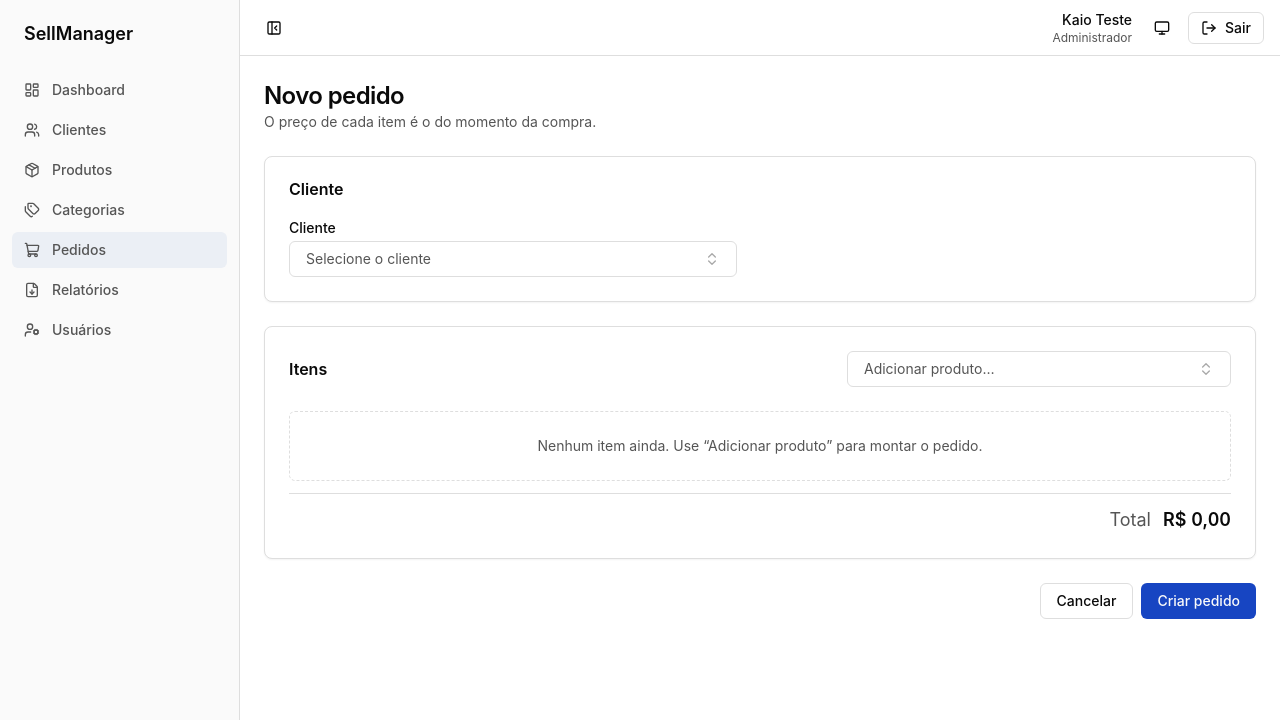
Pedidos › valida com o schema do shared: cliente e ao menos um item
Click the button "Criar pedido": (1199, 601) [1141,583,1256,619]
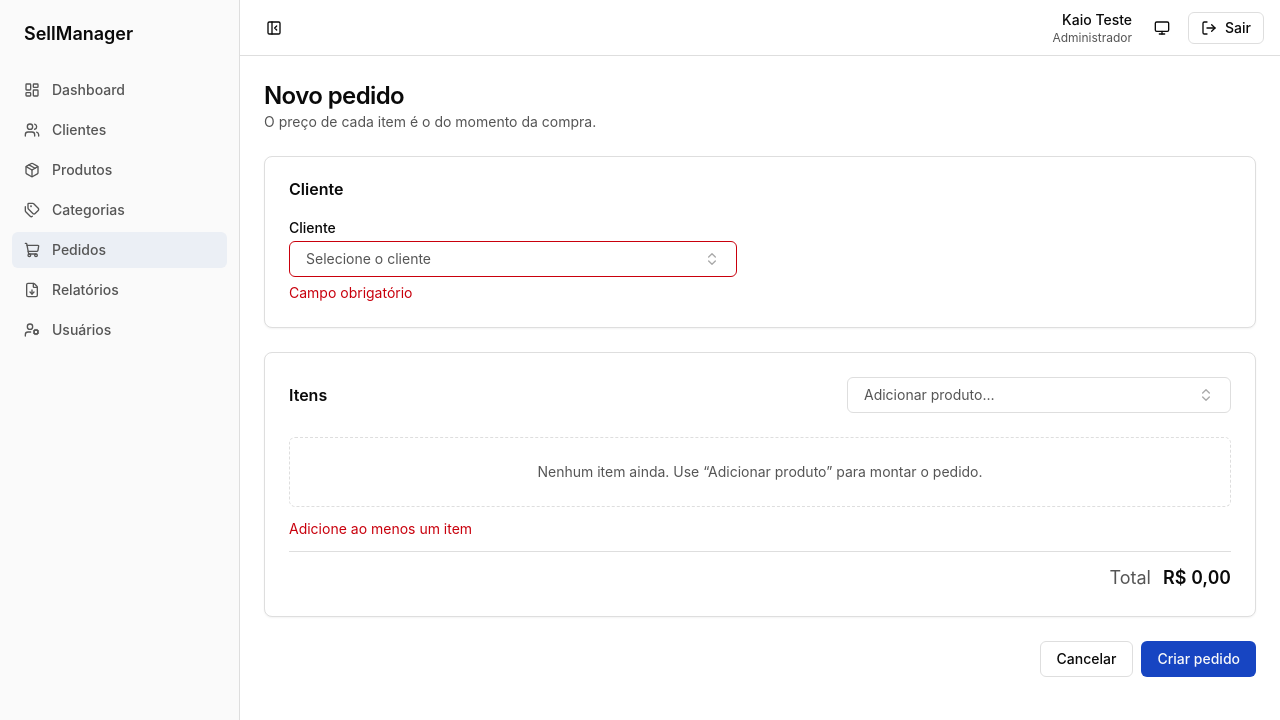
Check: the text "Adicione ao menos um item" is shown, box [289,520,472,537]
